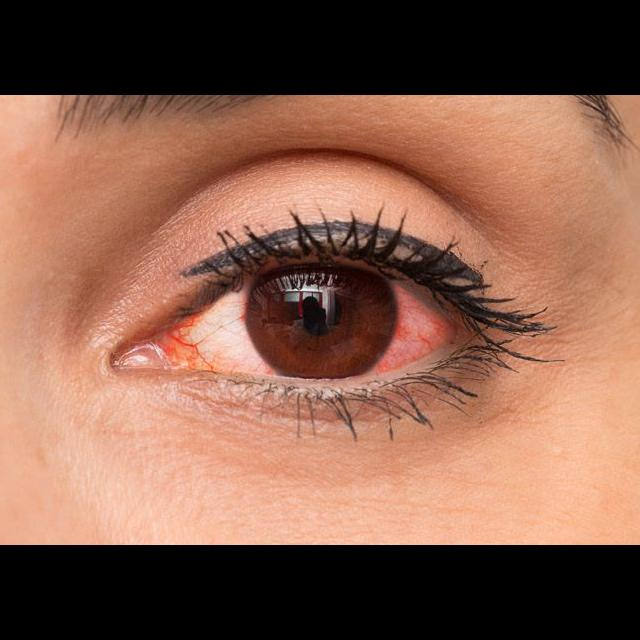eye: (185, 250, 464, 388)
iris: (244, 261, 399, 381)
